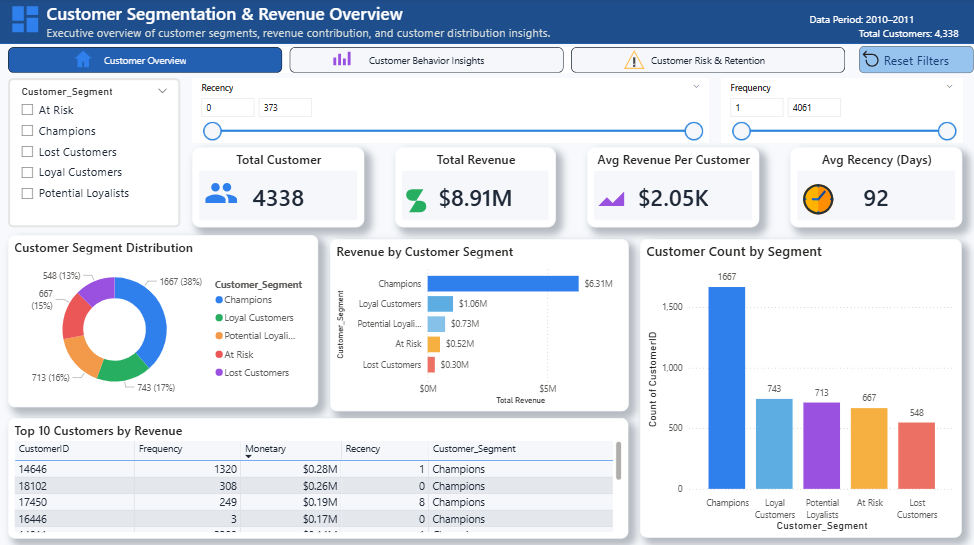

This screenshot's page, from the dashboard's own definition file:
{"tool":"powerbi","page":{"name":"Customer Overview","canvas":[1368,766],"ordinal":0},"visuals":[{"type":"cardVisual","title":"Total Customer","fields":{"Data":["Count(RFM_Base.CustomerID)"]},"box":[272,208,240,112],"z":0},{"type":"cardVisual","title":"Total Revenue","fields":{"Data":["Sum(RFM_Base.Monetary)"]},"box":[554.7,208,224,112],"z":1000},{"type":"cardVisual","title":"Avg Revenue Per Customer","fields":{"Data":["Avg(RFM_Base.Monetary)"]},"box":[821.3,208,240,112],"z":2000},{"type":"cardVisual","title":"Avg Recency (Days)","fields":{"Data":["Avg(RFM_Base.Recency)"]},"box":[1104,208,240,112],"z":3000},{"type":"donutChart","title":"Customer Segment Distribution","fields":{"Category":["RFM_Base.Customer_Segment"],"Y":["Count(RFM_Base.CustomerID)"]},"box":[16,330,432,240],"z":4000},{"type":"clusteredBarChart","title":"Revenue by Customer Segment","fields":{"Category":["RFM_Base.Customer_Segment"],"Y":["Sum(RFM_Base.Monetary)"]},"box":[464,336,416,240],"z":5000},{"type":"tableEx","title":"Top 10 Customers by Revenue","fields":{"Values":["RFM_Base.CustomerID","Sum(RFM_Base.Frequency)","Sum(RFM_Base.Monetary)","Sum(RFM_Base.Recency)","RFM_Base.Customer_Segment"]},"box":[16,585,864,168],"z":6000},{"type":"clusteredColumnChart","title":"Customer Count by Segment","fields":{"Category":["RFM_Base.Customer_Segment"],"Y":["Count(RFM_Base.CustomerID)"]},"box":[896,336,448,416],"z":7000},{"type":"shape","box":[-8,0,1376,64],"z":8000},{"type":"textbox","box":[64,0,752,64],"z":9000},{"type":"textbox","box":[1072,16,272,48],"z":10000},{"type":"slicer","fields":{"Values":["RFM_Base.Customer_Segment"]},"box":[16,112,240,208],"z":11000},{"type":"slicer","fields":{"Values":["RFM_Base.Recency"]},"box":[272,112,720,90],"z":12000},{"type":"slicer","fields":{"Values":["RFM_Base.Frequency"]},"box":[1008,112,336,90],"z":13000},{"type":"pageNavigator","box":[16,68,1168,36],"z":14000},{"type":"actionButton","box":[1200,67,160,38],"z":15000},{"type":"image","box":[16,6,48,48],"z":16000},{"type":"image","box":[288,240,48,64],"z":17000},{"type":"image","box":[560,256,48,48],"z":18000},{"type":"image","box":[832,240,48,80],"z":19000},{"type":"image","box":[1120,256,48,48],"z":20000},{"type":"image","box":[96,70,48,32],"z":21000},{"type":"image","box":[448,71,64,32],"z":22000},{"type":"image","box":[864,70,48,32],"z":23000},{"type":"image","box":[1204,70,28,29],"z":23001}]}

Visuals, with their boxes in screenshot pixels (x1, y1, x2, y2), scaled from the page's 1368x766 canvas onto the 974x545 screenshot:
"Total Customer" cardVisual: region(194, 148, 365, 228)
"Total Revenue" cardVisual: region(395, 148, 554, 228)
"Avg Revenue Per Customer" cardVisual: region(585, 148, 756, 228)
"Avg Recency (Days)" cardVisual: region(786, 148, 957, 228)
"Customer Segment Distribution" donutChart: region(11, 235, 319, 406)
"Revenue by Customer Segment" clusteredBarChart: region(330, 239, 627, 410)
"Top 10 Customers by Revenue" tableEx: region(11, 416, 627, 536)
"Customer Count by Segment" clusteredColumnChart: region(638, 239, 957, 535)
shape: region(0, 0, 973, 46)
textbox: region(46, 0, 581, 46)
textbox: region(763, 11, 957, 46)
slicer - RFM_Base.Customer_Segment: region(11, 80, 182, 228)
slicer - RFM_Base.Recency: region(194, 80, 706, 144)
slicer - RFM_Base.Frequency: region(718, 80, 957, 144)
pageNavigator: region(11, 48, 843, 74)
actionButton: region(854, 48, 968, 75)
image: region(11, 4, 46, 38)
image: region(205, 171, 239, 216)
image: region(399, 182, 433, 216)
image: region(592, 171, 627, 228)
image: region(797, 182, 832, 216)
image: region(68, 50, 103, 73)
image: region(319, 51, 365, 73)
image: region(615, 50, 649, 73)
image: region(857, 50, 877, 70)
